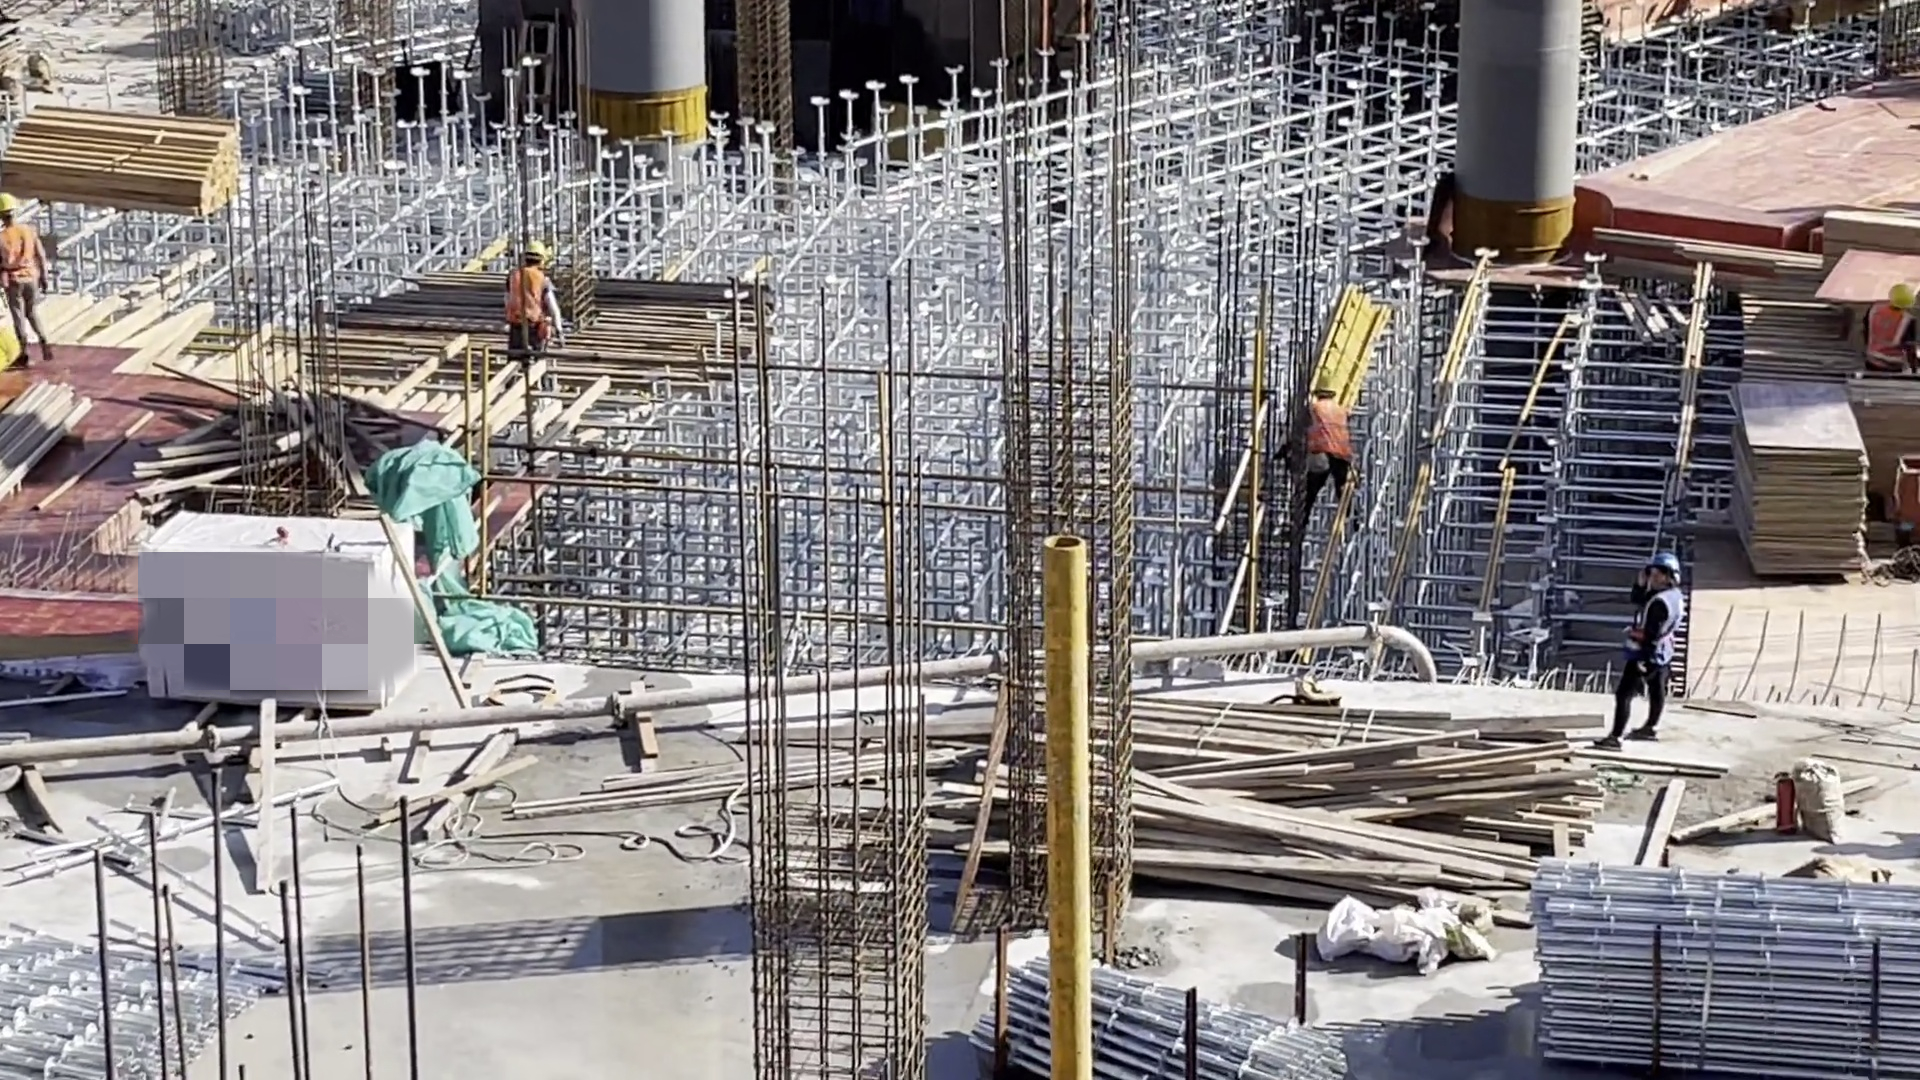board: (1729, 375, 1873, 587)
helmet: (1650, 547, 1683, 583), (521, 243, 555, 268), (1317, 375, 1336, 397), (2, 195, 15, 214)
person: (1618, 545, 1684, 753), (495, 243, 577, 361), (1, 194, 49, 368), (1304, 374, 1364, 513)
scaffold: (1520, 855, 1920, 1078), (970, 948, 1357, 1080), (1, 908, 278, 1080)
vest: (1631, 588, 1683, 673), (3, 231, 46, 297), (500, 268, 548, 324), (1310, 397, 1348, 464)
wood: (974, 682, 1598, 924), (7, 97, 239, 217)
